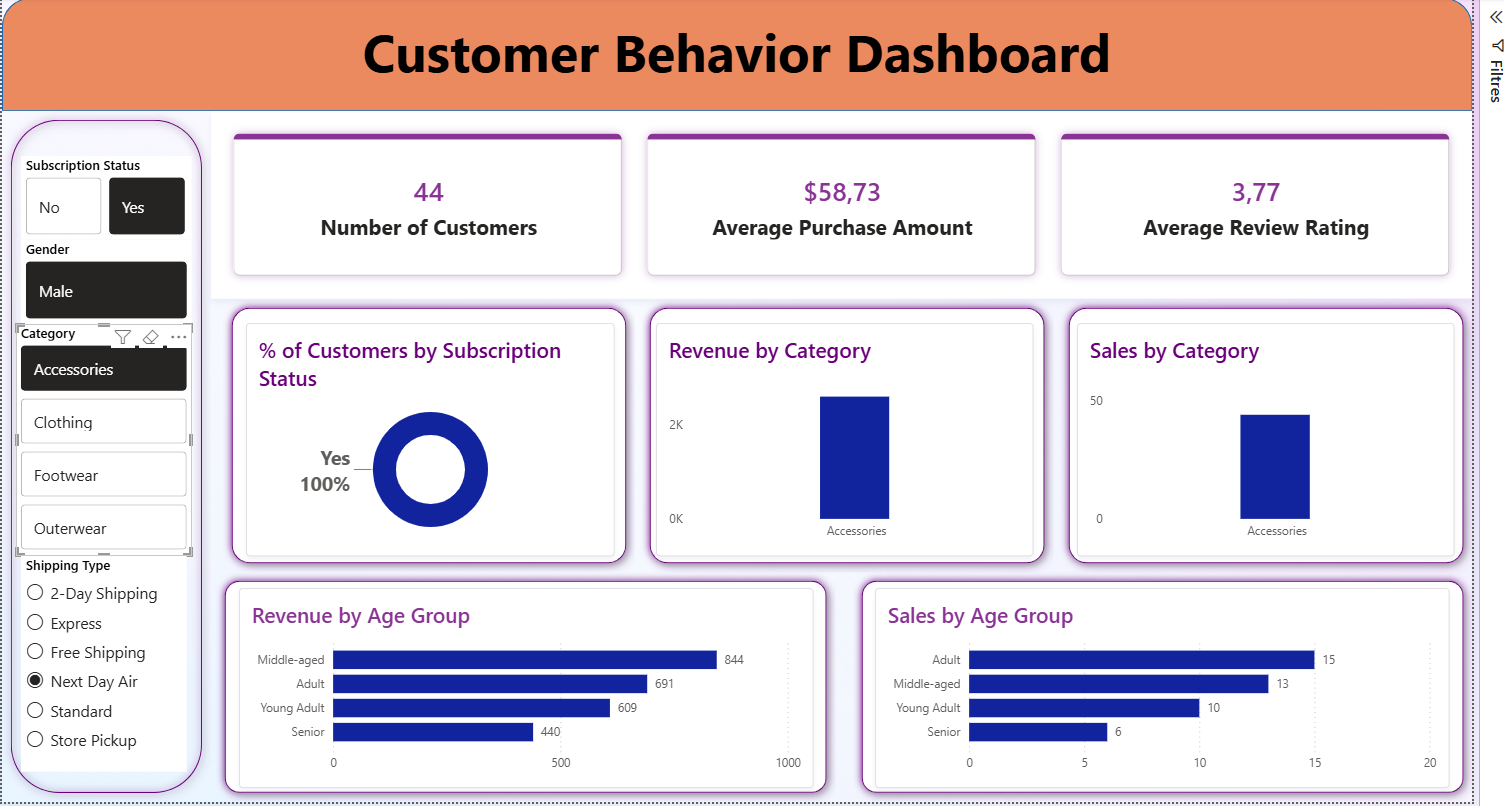

This screenshot's page, from the dashboard's own definition file:
{"tool":"powerbi","page":{"name":"Page 1","canvas":[1500,820],"ordinal":0},"visuals":[{"type":"cardVisual","fields":{"Data":["public customer.Number of Customers","public customer.Average Purchase Amount","public customer.Average Review Rating"]},"box":[212.9,115.3,1286.5,191.6],"z":2000},{"type":"shape","box":[218.3,585.6,631.7,234.2],"z":2500,"group":"g1"},{"type":"shape","box":[0,0,1499.4,115.3],"z":3000},{"type":"textbox","box":[0,12.4,1499.4,102.9],"z":4000},{"type":"shape","box":[225.4,307,420.2,278.4],"z":5000},{"type":"donutChart","title":"% of Customers by Subscription Status","fields":{"Category":["public customer.subscription_status"],"Y":["CountNonNull(public customer.customer_id)"]},"box":[248.4,331.8,376.2,237.8],"z":6000},{"type":"shape","box":[1078.9,307,420.5,278.6],"z":7000},{"type":"shape","box":[652.1,307,420.5,278.6],"z":8000},{"type":"clusteredColumnChart","title":"Revenue by Category","fields":{"Y":["Sum(public customer.purchase_amount)"],"Category":["public customer.category"]},"box":[667.2,331.8,385.1,237.8],"z":9000},{"type":"clusteredColumnChart","title":"Sales by Category","fields":{"Y":["CountNonNull(public customer.customer_id)"],"Category":["public customer.category"]},"box":[1096.6,331.8,385.1,237.8],"z":10000},{"type":"shape","box":[0,115.3,212.9,704.5],"z":11000},{"type":"advancedSlicerVisual","fields":{"Values":["public customer.subscription_status"]},"box":[19.5,161.5,173.9,85.2],"z":12000},{"type":"advancedSlicerVisual","fields":{"Values":["public customer.gender"]},"box":[19.4,246.8,174.4,85.7],"z":13000},{"type":"advancedSlicerVisual","fields":{"Values":["public customer.category"]},"box":[14.3,332.5,179.5,236.6],"z":14000},{"type":"listSlicer","fields":{"Values":["public customer.shipping_type"]},"box":[19.5,569.6,168.6,220],"z":15000},{"type":"shape","box":[867.7,585.6,631.7,234.2],"z":16000},{"type":"clusteredBarChart","title":"Sales by Age Group","fields":{"Y":["CountNonNull(public customer.customer_id)"],"Category":["public customer.age_group"]},"box":[890.8,601.5,585.6,204.1],"z":17000},{"type":"clusteredBarChart","title":"Revenue by Age Group","fields":{"Y":["Sum(public customer.purchase_amount)"],"Category":["public customer.age_group"]},"box":[241.4,601.6,585.6,204.1],"z":17500,"group":"g1"},{"type":"group","id":"g1","title":"Group 1","box":[218.3,585.6,631.7,234.2],"z":17501}]}

Visuals, with their boxes in screenshot pixels (x1, y1, x2, y2):
cardVisual - public customer.Number of Customers x public customer.Average Purchase Amount: {"left": 218, "top": 128, "right": 1467, "bottom": 313}
shape: {"left": 224, "top": 584, "right": 837, "bottom": 805}
shape: {"left": 12, "top": 16, "right": 1467, "bottom": 128}
textbox: {"left": 12, "top": 28, "right": 1467, "bottom": 128}
shape: {"left": 230, "top": 314, "right": 638, "bottom": 584}
"% of Customers by Subscription Status" donutChart: {"left": 253, "top": 338, "right": 618, "bottom": 568}
shape: {"left": 1059, "top": 314, "right": 1467, "bottom": 584}
shape: {"left": 645, "top": 314, "right": 1053, "bottom": 584}
"Revenue by Category" clusteredColumnChart: {"left": 659, "top": 338, "right": 1033, "bottom": 568}
"Sales by Category" clusteredColumnChart: {"left": 1076, "top": 338, "right": 1450, "bottom": 568}
shape: {"left": 12, "top": 128, "right": 218, "bottom": 805}
advancedSlicerVisual - public customer.subscription_status: {"left": 31, "top": 172, "right": 199, "bottom": 255}
advancedSlicerVisual - public customer.gender: {"left": 31, "top": 255, "right": 200, "bottom": 338}
advancedSlicerVisual - public customer.category: {"left": 26, "top": 338, "right": 200, "bottom": 568}
listSlicer - public customer.shipping_type: {"left": 31, "top": 568, "right": 194, "bottom": 782}
shape: {"left": 854, "top": 584, "right": 1467, "bottom": 805}
"Sales by Age Group" clusteredBarChart: {"left": 876, "top": 599, "right": 1444, "bottom": 797}
"Revenue by Age Group" clusteredBarChart: {"left": 246, "top": 599, "right": 814, "bottom": 797}
"Group 1" group: {"left": 224, "top": 584, "right": 837, "bottom": 805}
